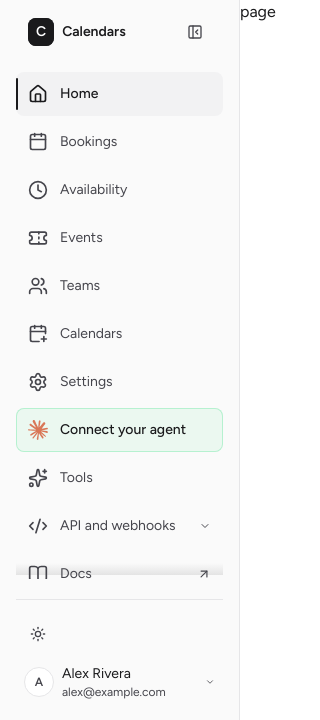
it: AdminShell: the rail menus by keyboard › closes the profile menu on Tab and hands focus to its button, so Tab moves on from the rail
(page scrolled)
Click the button with test id "profile-menu-trigger" at (120, 682), box [16,660,223,704]
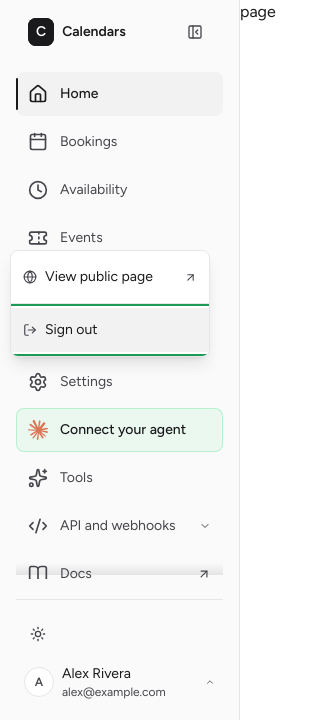
Press Tab in the menu item with test id "profile-sign-out", box [11,308,209,352]
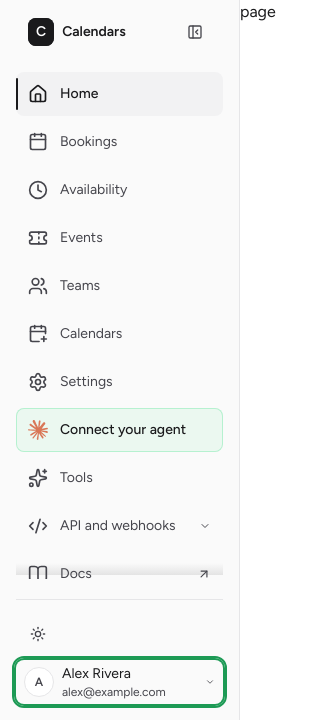
Now the menu with test id "profile-menu" is gone
